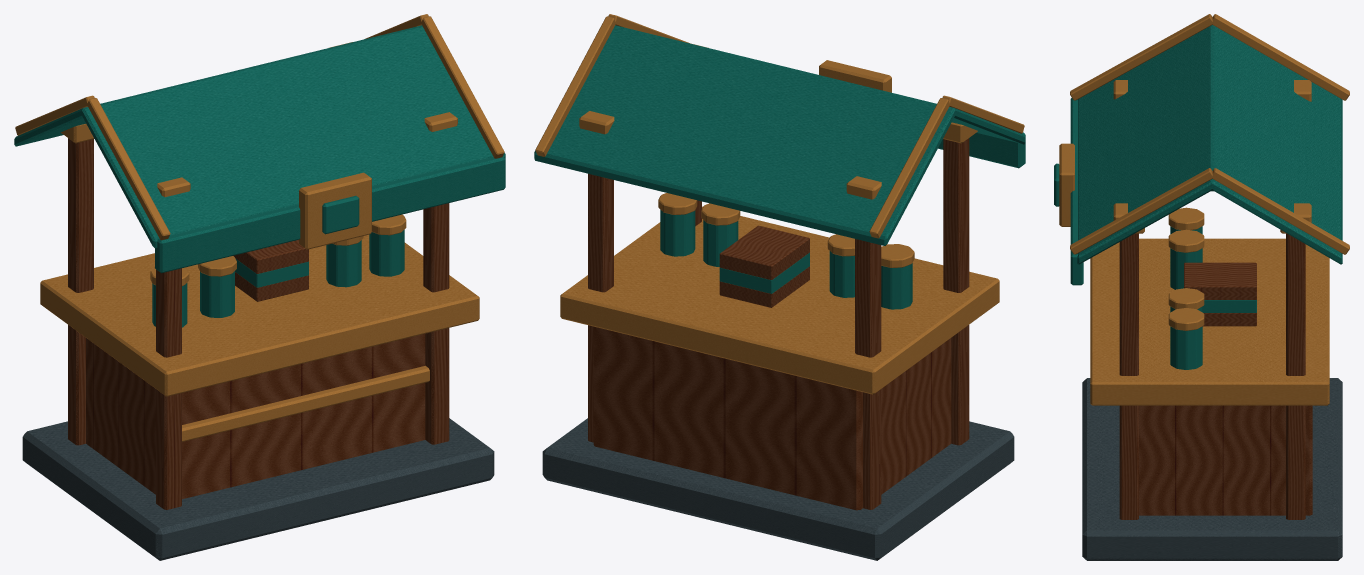
Rendered from ruins-shop.glb.
3 views of the same model, side by side, from view 1: azimuth 30°, elevation 25°; view 2: azimuth 150°, elevation 25°; view 3: azimuth 270°, elevation 25° (orthographic). The views are drawn at different scales.
Parts seen in each view (by area): view 1: SM_shop_Textured; view 2: SM_shop_Textured; view 3: SM_shop_Textured.
Part boxes in pixels (box(x1,y1,x2,y2)): SM_shop_Textured: box(14, 14, 505, 560); SM_shop_Textured: box(534, 14, 1025, 560); SM_shop_Textured: box(1054, 14, 1349, 560).
Size of the model in its own units: 1.48 by 1.66 by 1.14.
1 material, 1 textured.
